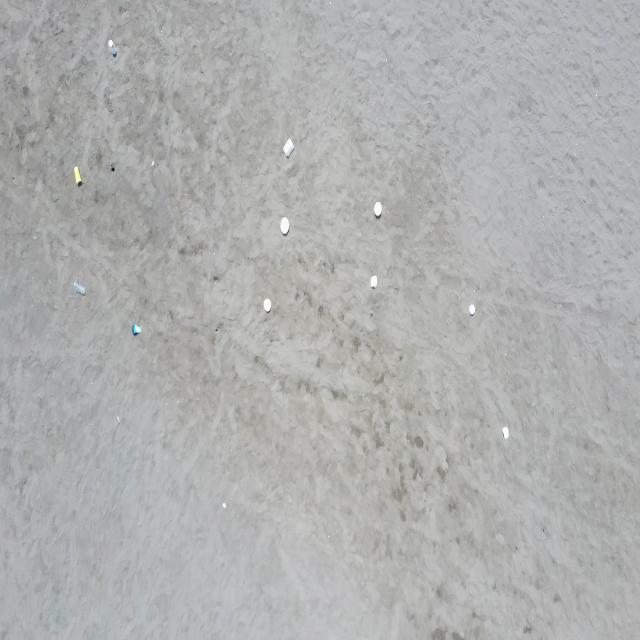take-away-containers: (283, 137, 294, 157), (280, 216, 289, 234), (374, 202, 382, 216), (370, 274, 378, 288), (264, 299, 272, 312), (503, 426, 509, 439), (469, 304, 475, 316)
takeaway-cup: (74, 280, 86, 294), (74, 166, 81, 184), (108, 40, 116, 55), (132, 324, 142, 334)
